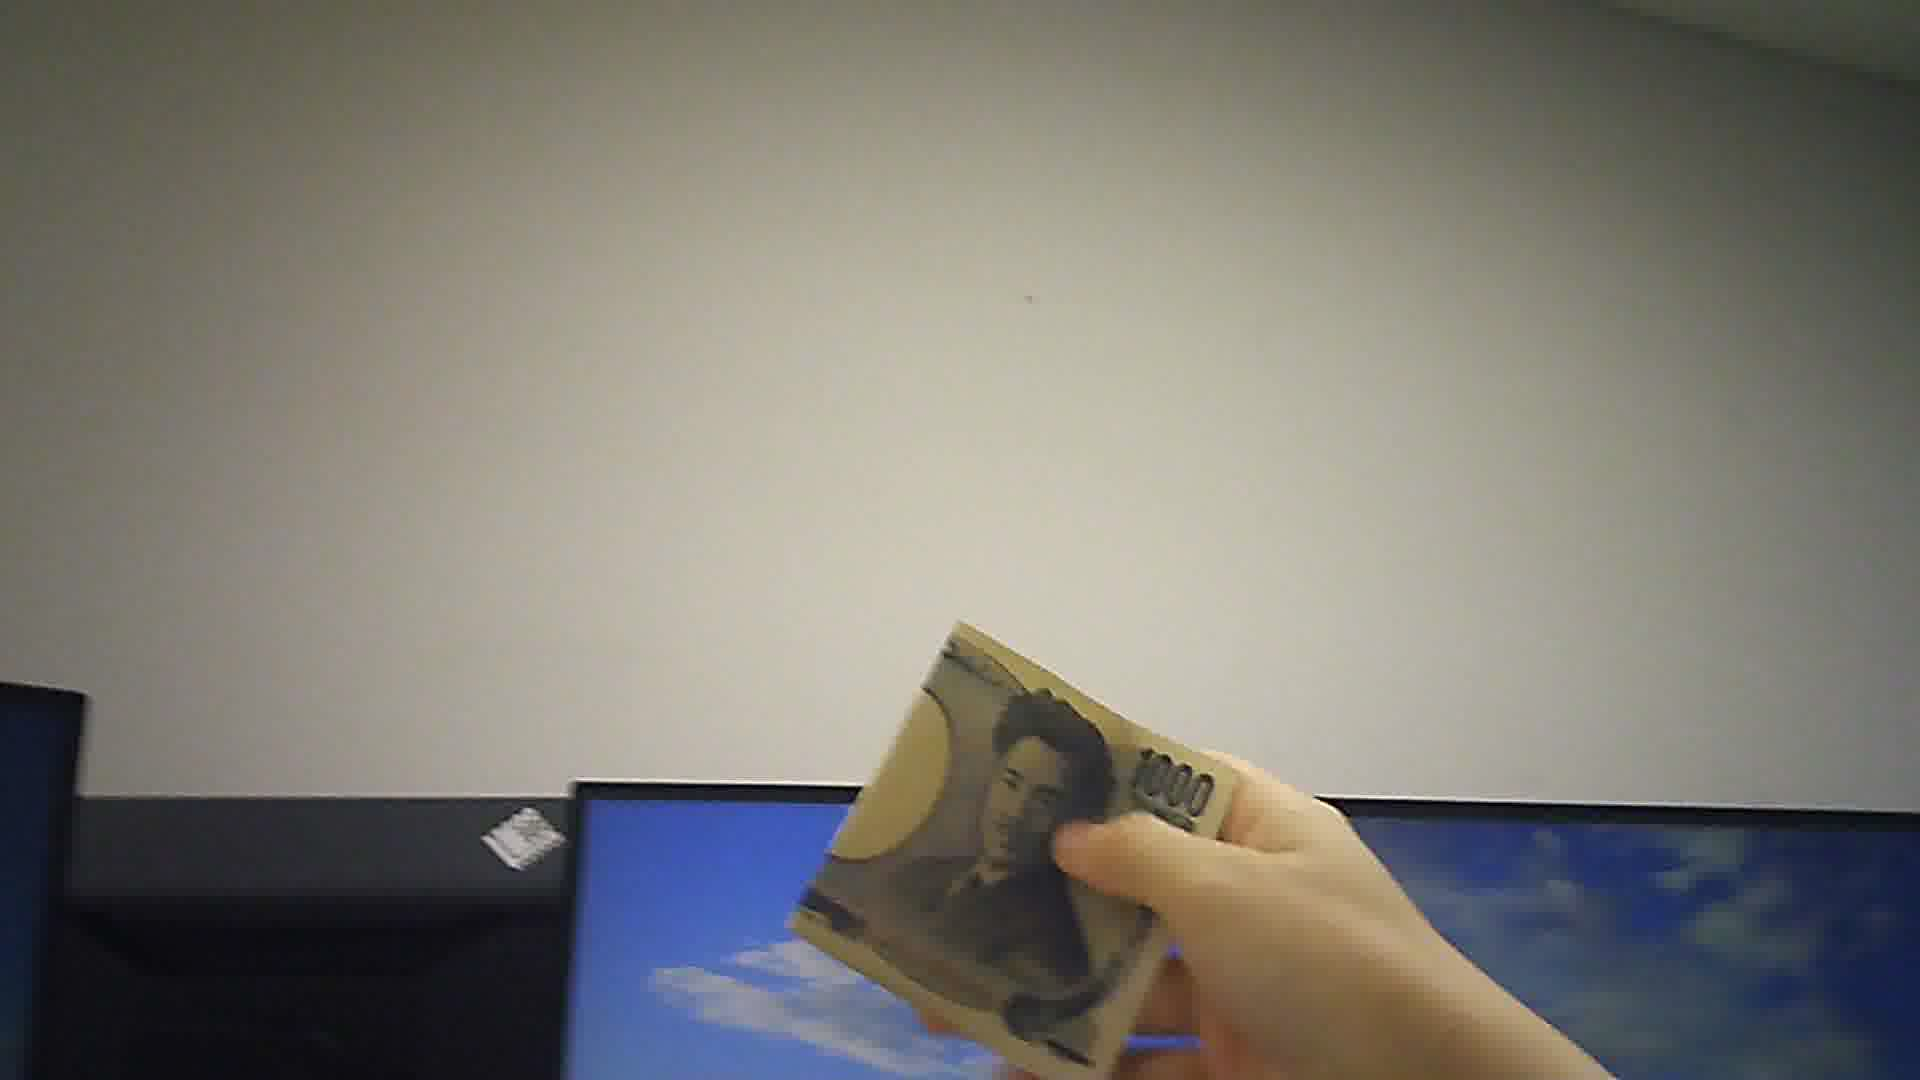1,000 Yen: (798, 597, 1240, 1079)
